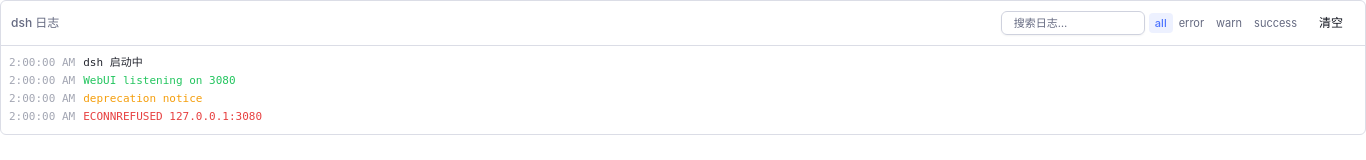
DshLogs interactions › renders all lines then filters by search box
The image size is (1366, 160).
Expected: the text "listening on 3080" is shown, [83, 74, 236, 87]
Type "econnrefused" into the field labelled "搜索日志" at x=1073, y=23, box [1001, 11, 1145, 35]
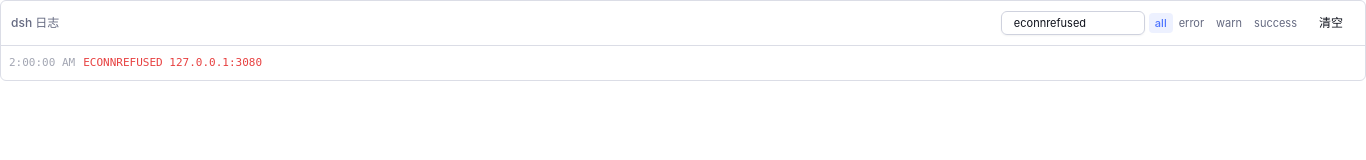
Now the text "ECONNREFUSED" is shown, box [83, 56, 262, 69]
Now the text "listening on 3080" is gone
